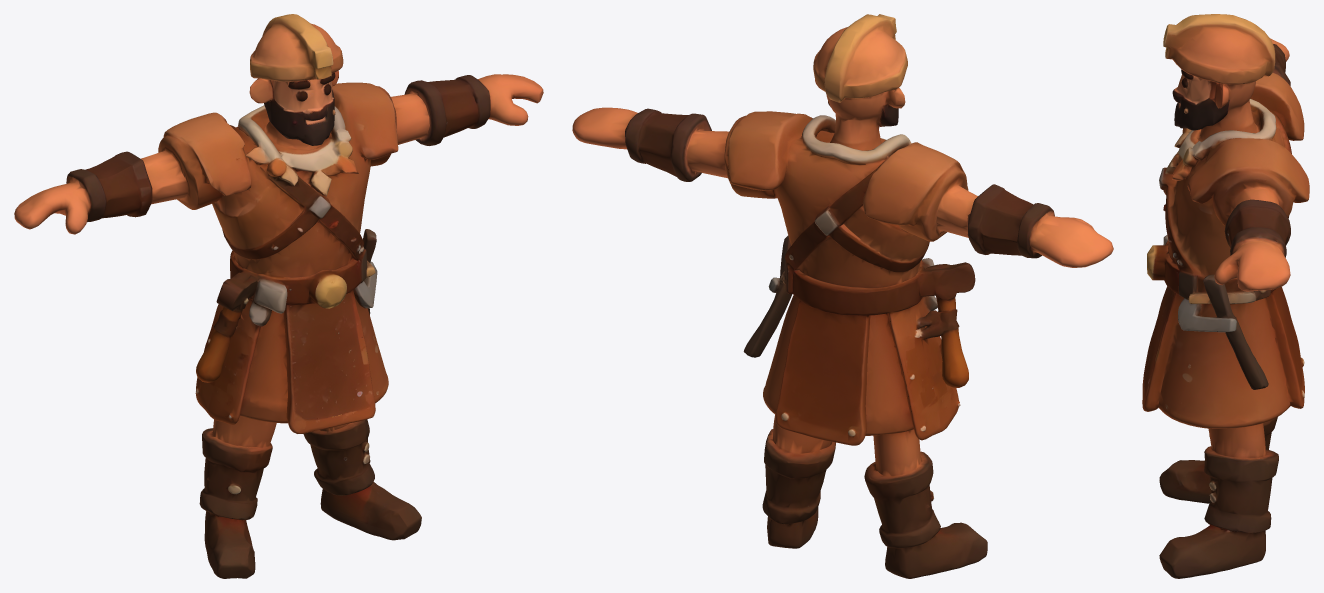
File: comp_ferhat.glb
3 views of the same model, side by side, from view 1: azimuth 30°, elevation 25°; view 2: azimuth 150°, elevation 25°; view 3: azimuth 270°, elevation 25° (orthographic). The views are drawn at different scales.
Parts seen in each view (by area): view 1: tripo_node_e8b4f53d-5d57-4acd-acf7-897e9e2d1a5c; view 2: tripo_node_e8b4f53d-5d57-4acd-acf7-897e9e2d1a5c; view 3: tripo_node_e8b4f53d-5d57-4acd-acf7-897e9e2d1a5c.
Boxes of the visible parts, <box> form: tripo_node_e8b4f53d-5d57-4acd-acf7-897e9e2d1a5c: <box>14,14,543,578</box>; tripo_node_e8b4f53d-5d57-4acd-acf7-897e9e2d1a5c: <box>572,14,1113,578</box>; tripo_node_e8b4f53d-5d57-4acd-acf7-897e9e2d1a5c: <box>1142,14,1309,578</box>.
Size of the model in its own units: 1 by 0.9509 by 0.2786.
1 material, 1 textured.
